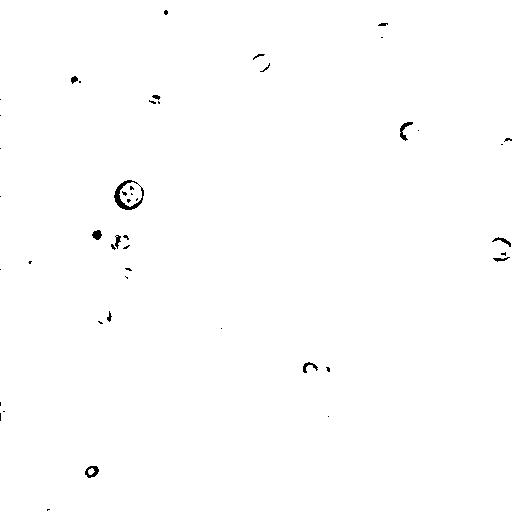micro-algae: (472, 13, 512, 102), (381, 49, 423, 95), (79, 215, 120, 251), (15, 297, 51, 333), (59, 66, 91, 103), (113, 179, 145, 211), (320, 355, 348, 383), (135, 237, 161, 266), (486, 236, 512, 264), (114, 262, 141, 287), (23, 251, 49, 275), (249, 52, 275, 75), (1, 395, 22, 421), (398, 120, 422, 142), (153, 1, 174, 26), (109, 229, 133, 250), (93, 307, 115, 327), (374, 21, 394, 41), (31, 501, 69, 511), (299, 361, 320, 378), (83, 463, 102, 479), (500, 131, 511, 157)
